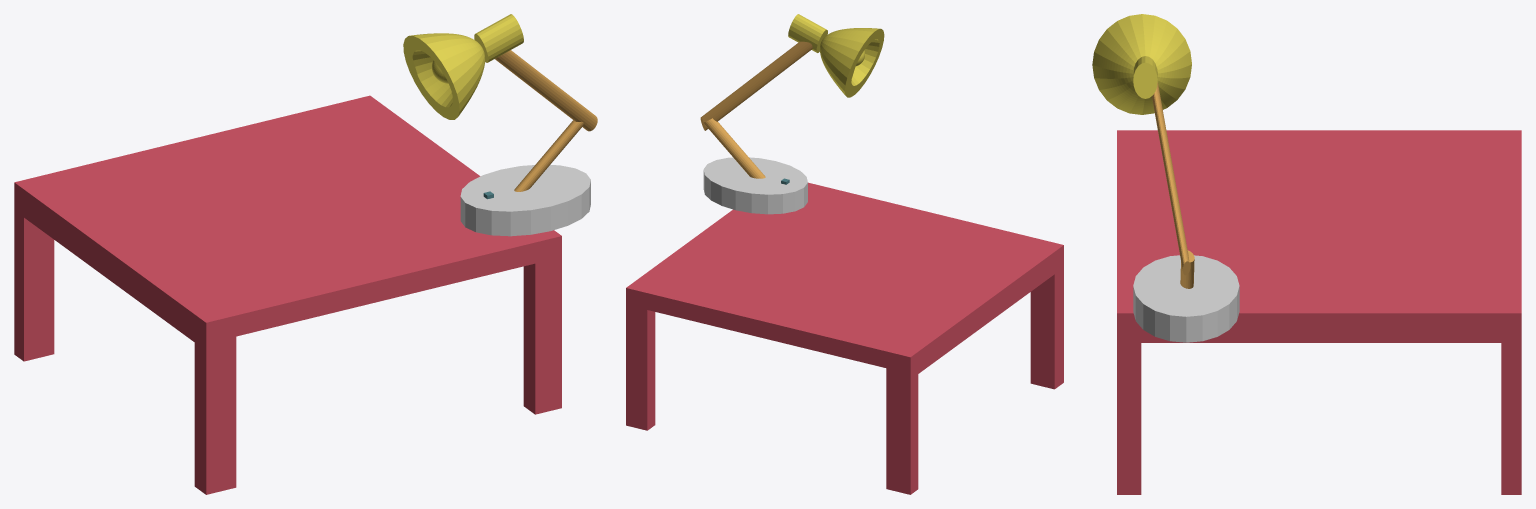
The model's file is Magnificent Snaget.glb.
3 views of the same model, side by side, from view 1: azimuth 30°, elevation 25°; view 2: azimuth 150°, elevation 25°; view 3: azimuth 270°, elevation 25° (orthographic). The views are drawn at different scales.
Visible parts, largest first — view 1: Mesh_Mesh_head_geo.001_lambert2SG.001; view 2: Mesh_Mesh_head_geo.001_lambert2SG.001; view 3: Mesh_Mesh_head_geo.001_lambert2SG.001.
Boxes of the visible parts, left/top/right/bottom form: Mesh_Mesh_head_geo.001_lambert2SG.001: left=14, top=14, right=597, bottom=494; Mesh_Mesh_head_geo.001_lambert2SG.001: left=626, top=14, right=1063, bottom=494; Mesh_Mesh_head_geo.001_lambert2SG.001: left=1092, top=14, right=1521, bottom=494.
Bounding box in the file's own units: 126 × 112 × 105.
